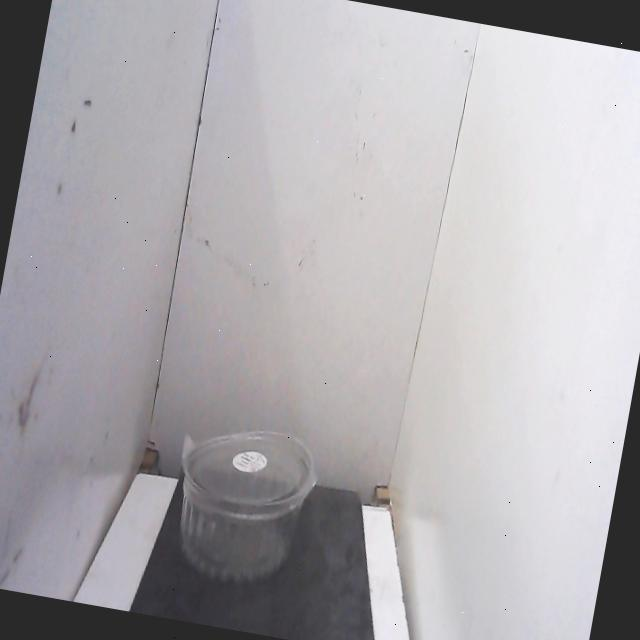plastico: (156, 399, 329, 603)
